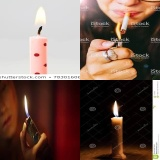fire: (112, 21, 128, 40), (33, 6, 46, 24), (110, 99, 122, 117), (23, 93, 30, 116)
